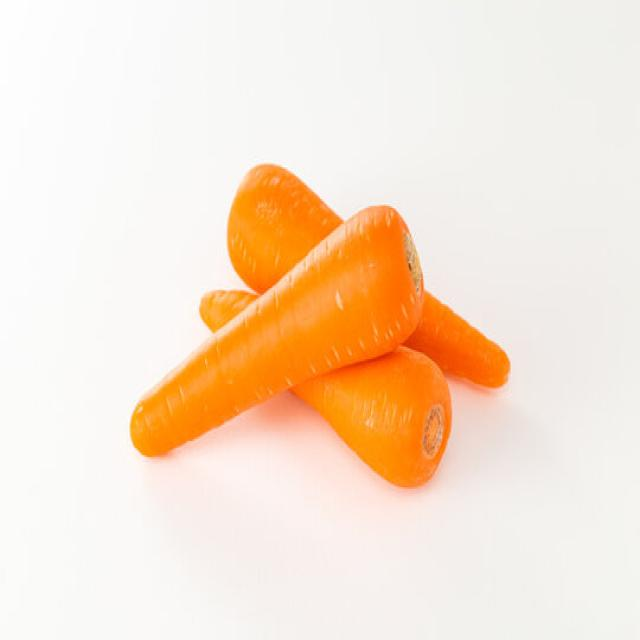Carrot: (129, 201, 424, 457), (225, 160, 510, 389), (288, 343, 452, 489), (405, 286, 510, 389), (198, 288, 258, 332)
